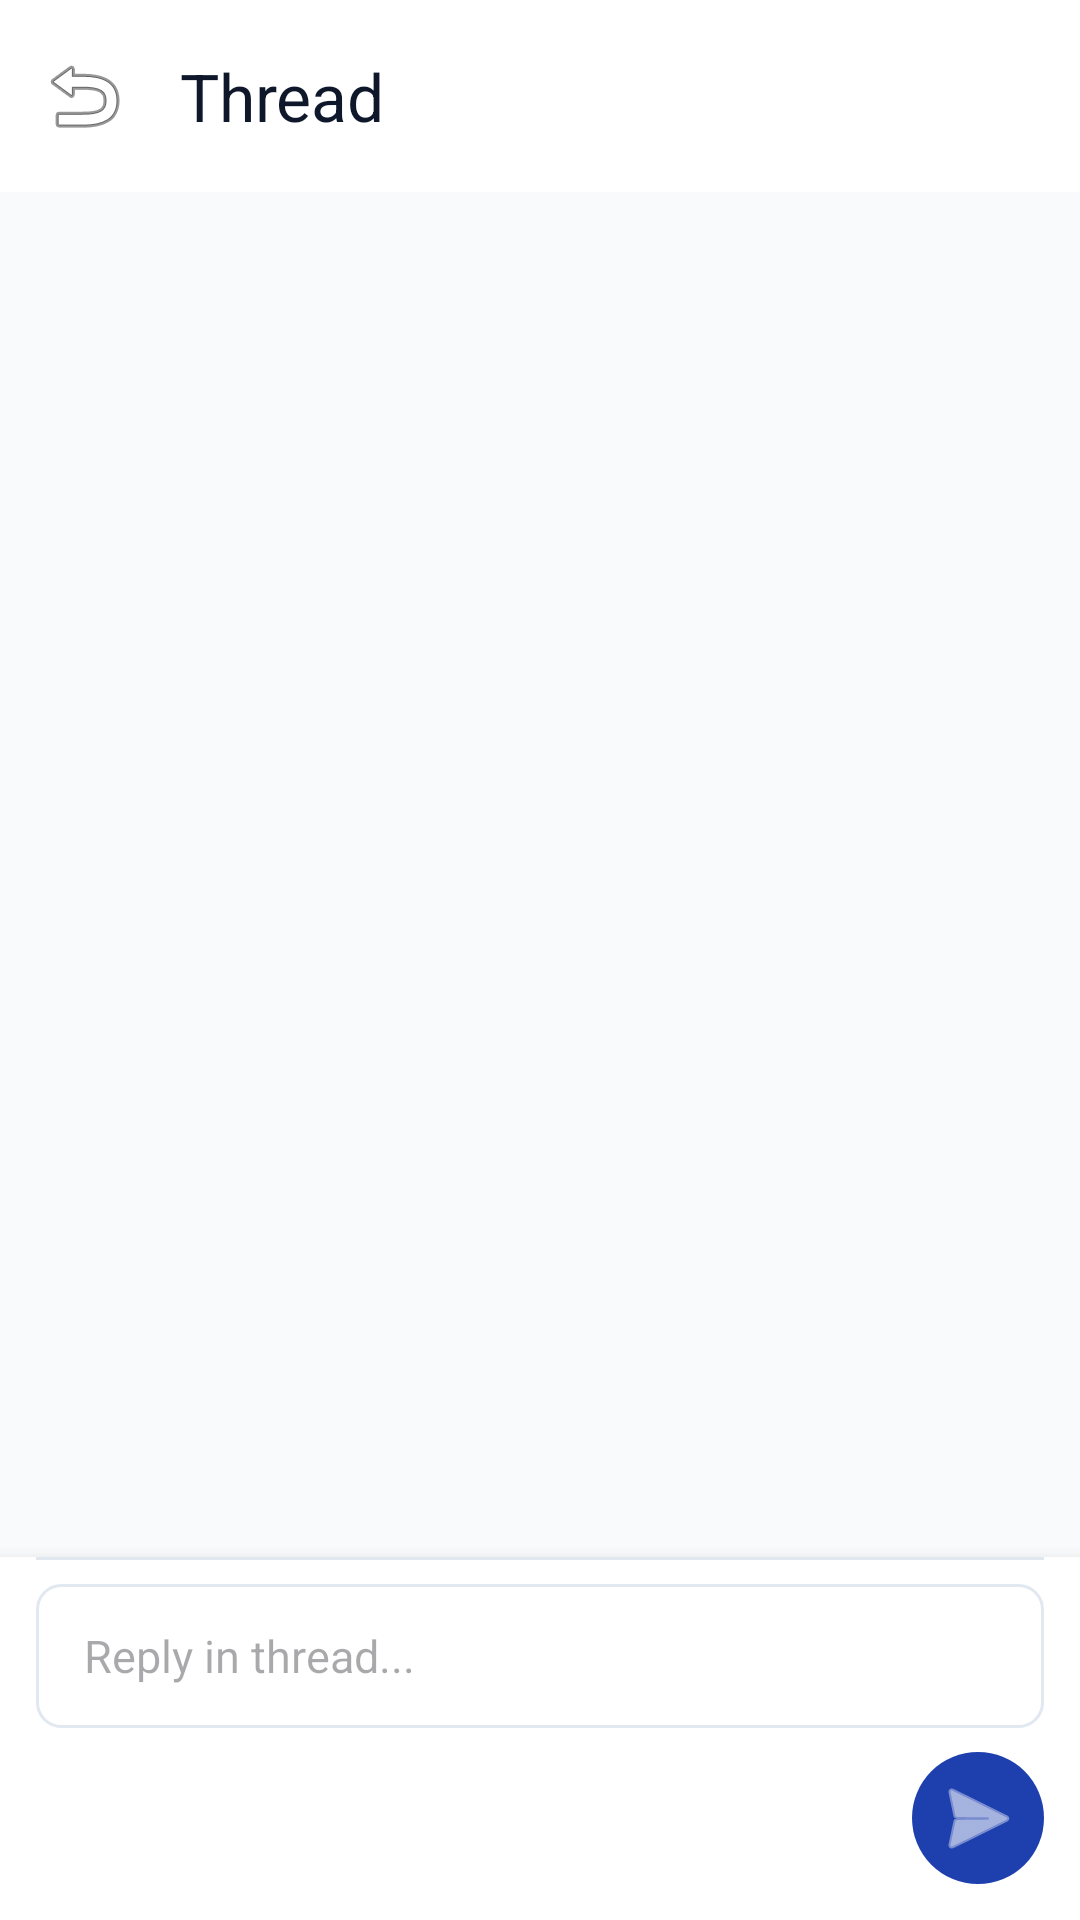

Locate icon controls on the screen. Image size 1080px×1920px, boxes as Rect(x1, y1, x2, y2).
send: Rect(912, 1752, 1044, 1884)
